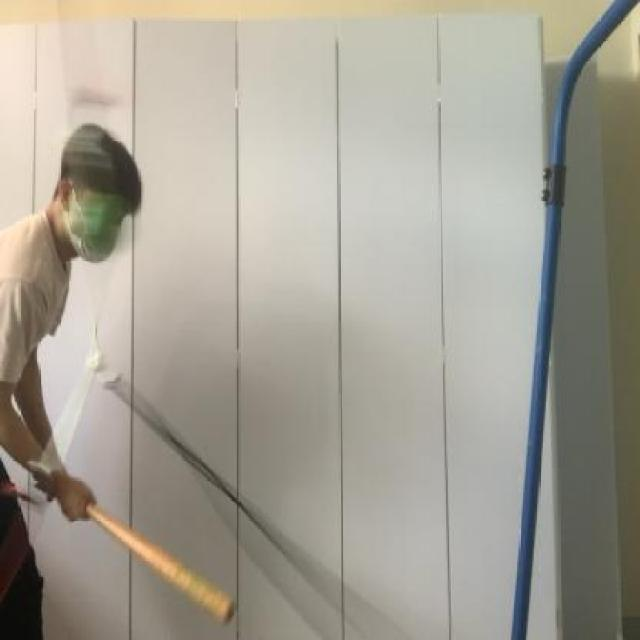baseball: (46, 157, 146, 266)
